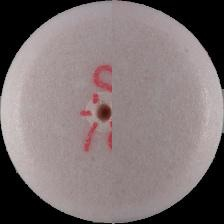0781-5987: (0, 0, 224, 224)
